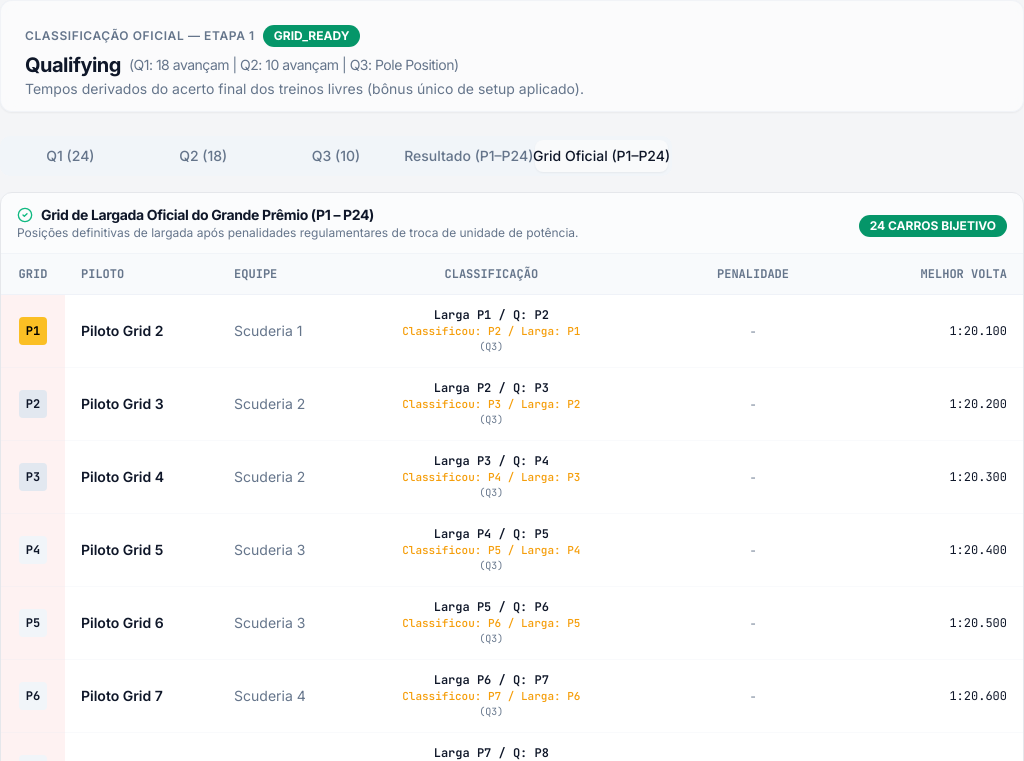
Test: RACE-QUALI-01B-UI-GRID — Grid Oficial e Penalidades Persistidas (UI-GRID-01..07) › UI-GRID-07 — POLE COM PENALIDADE: quando qualifyingPosition P1 sofre penalidade, Q3 continua representando P1 da classificação e Grid Oficial mostra a nova posi
Expected: the text "Grid de Largada Oficial do Grande Prêmio (P1 – P24)" is shown, [41,205,374,225]
Agora navegamos até a aba Q3
Click the tab "Q3 (10)" at [336, 156], box [270,140,402,172]
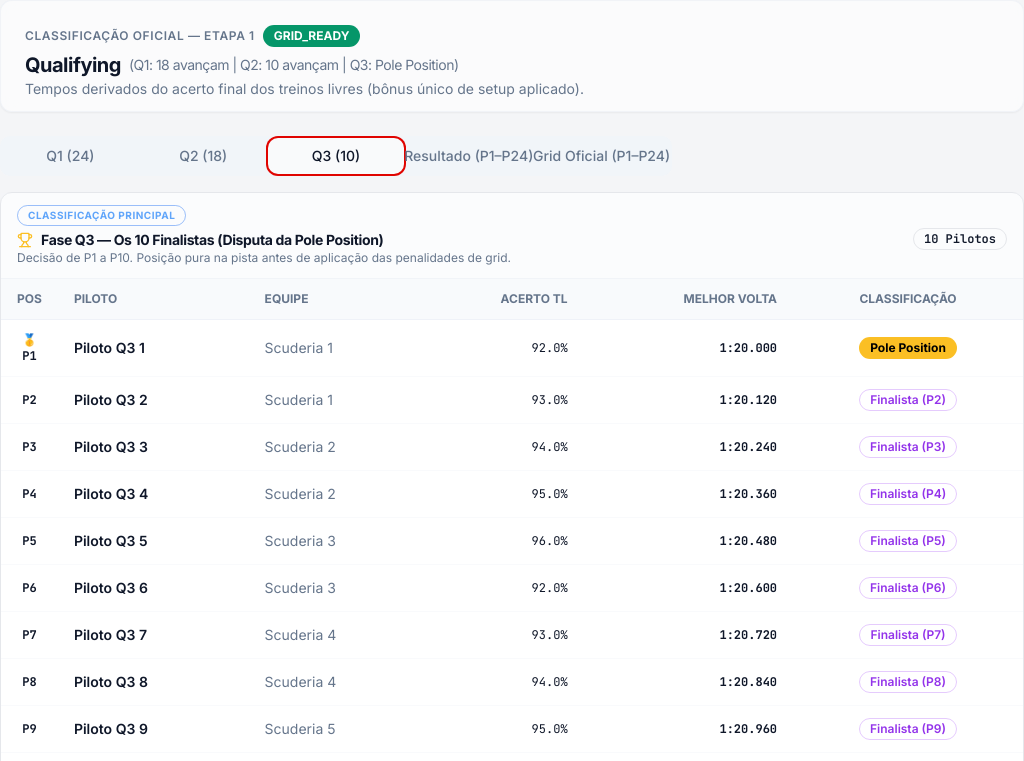
Expected: the text "Fase Q3 — Os 10 Finalistas (Disputa da Pole Position)" is shown, [41,230,384,250]
Expected: the text "Pole Position" is shown, [859,337,957,359]
Expected: the text "Piloto Q3 1" is shown, [58,320,249,376]
